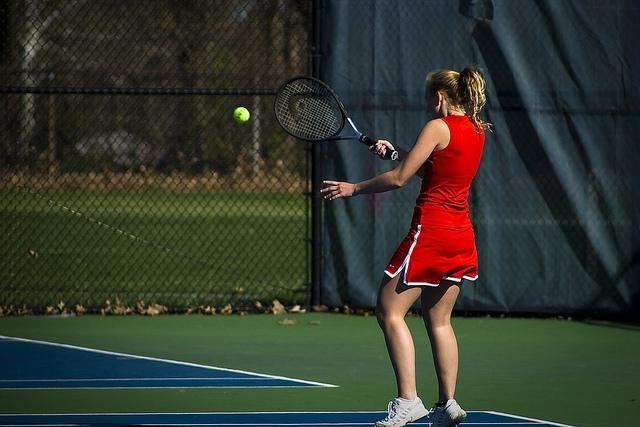car: (55, 130, 196, 173)
